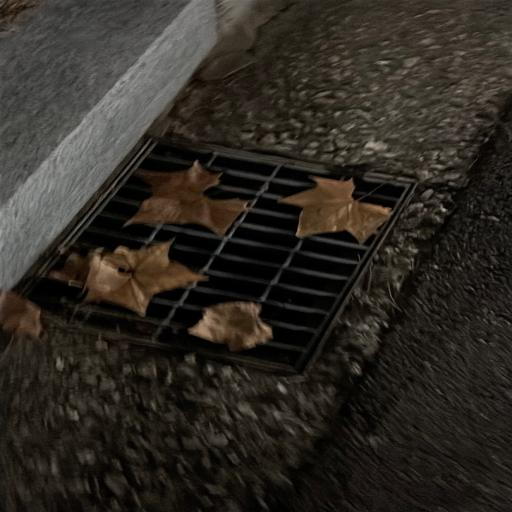debris: (84, 240, 207, 316), (128, 163, 252, 237), (277, 176, 393, 244), (188, 302, 272, 349), (49, 271, 81, 286), (288, 159, 325, 169), (208, 145, 247, 153), (68, 253, 83, 268)
drain: (21, 136, 422, 367)
